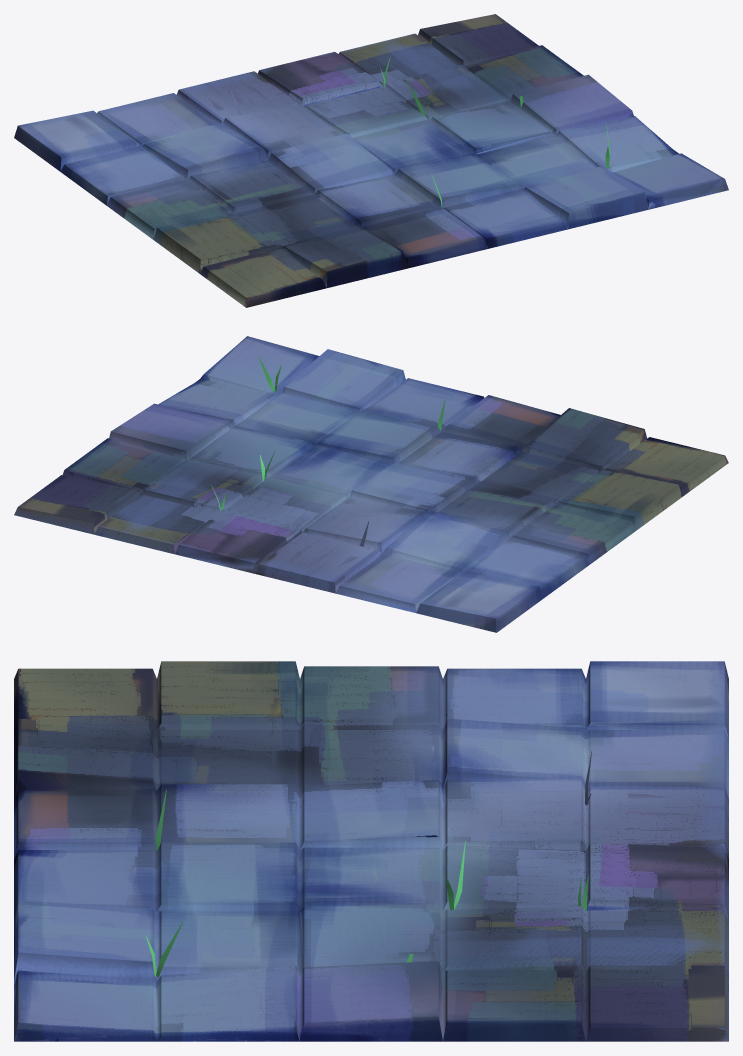
Rendered from floor_tiles.fbx.
3 renders of one model, top to bottom at view 1: azimuth 30°, elevation 25°; view 2: azimuth 150°, elevation 25°; view 3: azimuth 270°, elevation 25°, orthographic. The views are drawn at different scales.
Visible parts, largest first — view 1: Floor tiles; view 2: Floor tiles; view 3: Floor tiles.
Boxes of the visible parts, bbox=[...] form: Floor tiles: bbox=[14, 14, 728, 307]; Floor tiles: bbox=[14, 336, 728, 632]; Floor tiles: bbox=[14, 661, 728, 1041].
Bounding box in the file's own units: 495 × 43.94 × 412.
